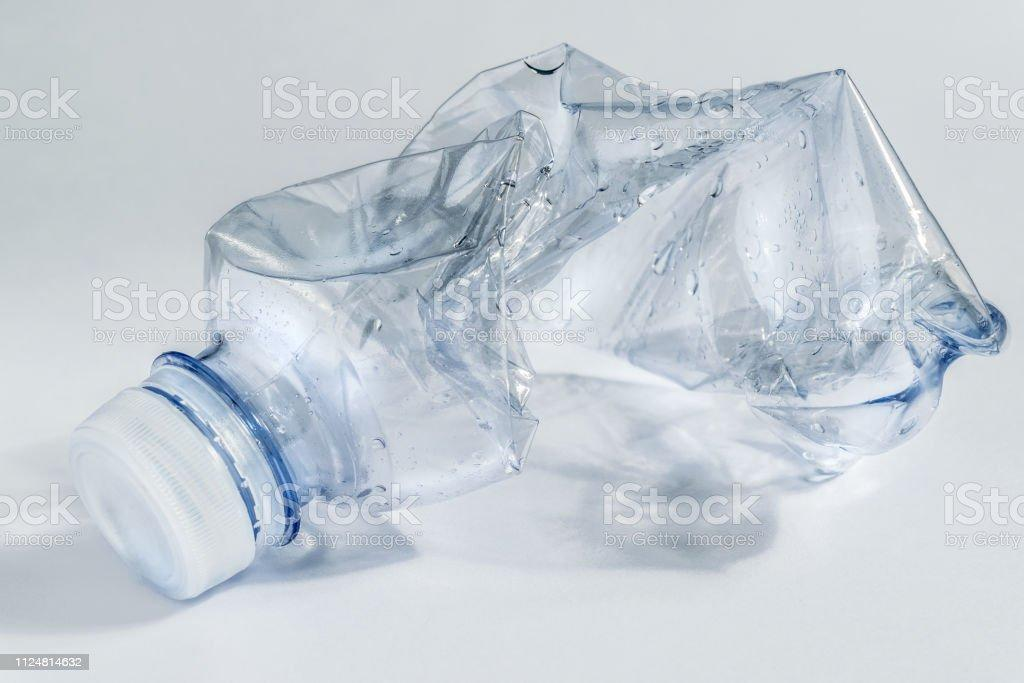plastic: (78, 43, 1009, 596)
